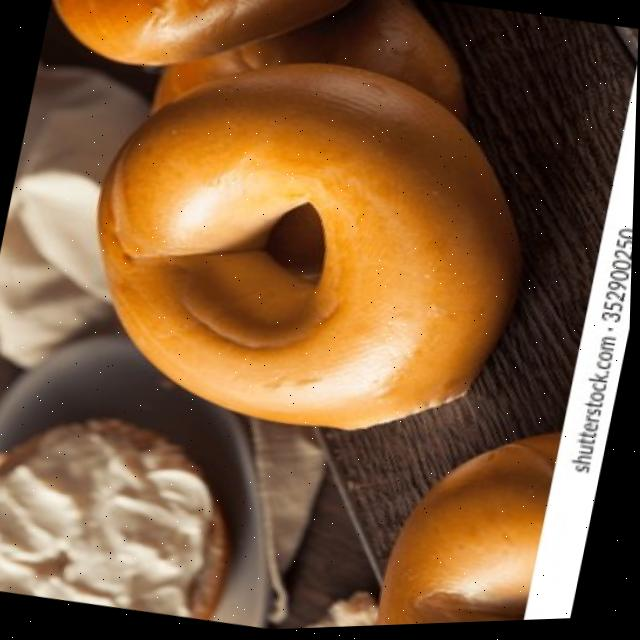Bagel: (100, 65, 520, 431)
